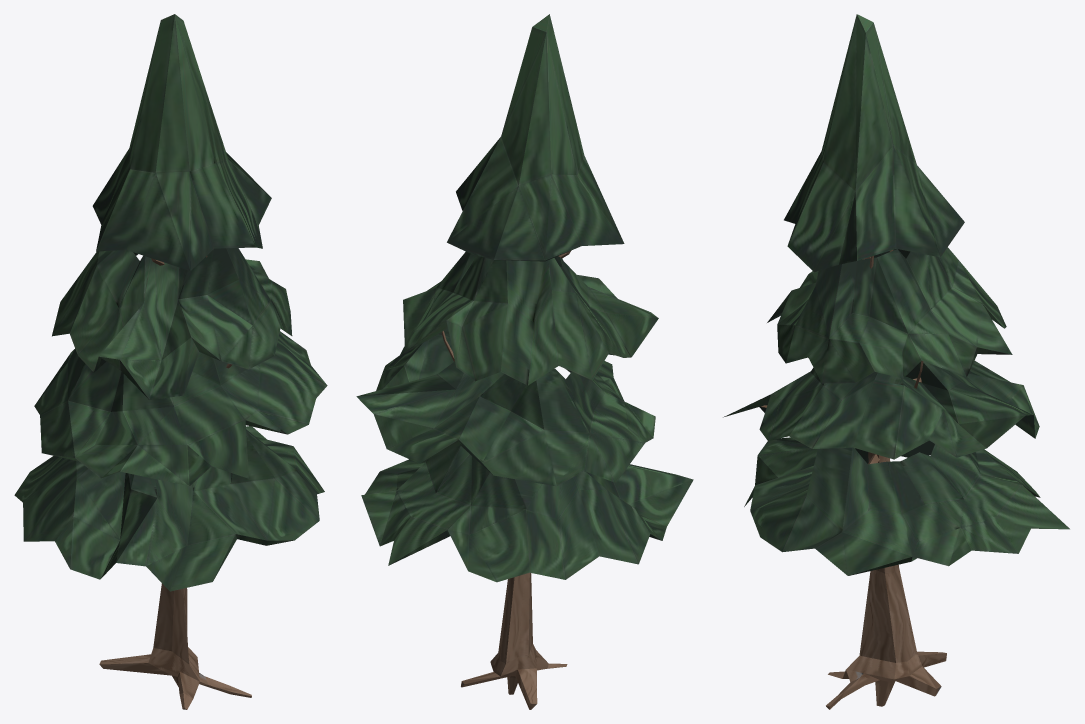
The model's file is spruceTree.glb.
3 renders of one model, left to right at view 1: azimuth 30°, elevation 25°; view 2: azimuth 150°, elevation 25°; view 3: azimuth 270°, elevation 25°, orthographic. The views are drawn at different scales.
Visible parts, largest first — view 1: tree_tree-spruce_0; view 2: tree_tree-spruce_0; view 3: tree_tree-spruce_0.
Boxes of the visible parts, box(x1,y1,x2,y2) form: tree_tree-spruce_0: box(14, 14, 327, 709); tree_tree-spruce_0: box(356, 14, 693, 709); tree_tree-spruce_0: box(723, 14, 1069, 709).
Bounding box in the file's own units: 3.88 × 9.55 × 4.44.
Materials: 1 (1 with a texture image).
